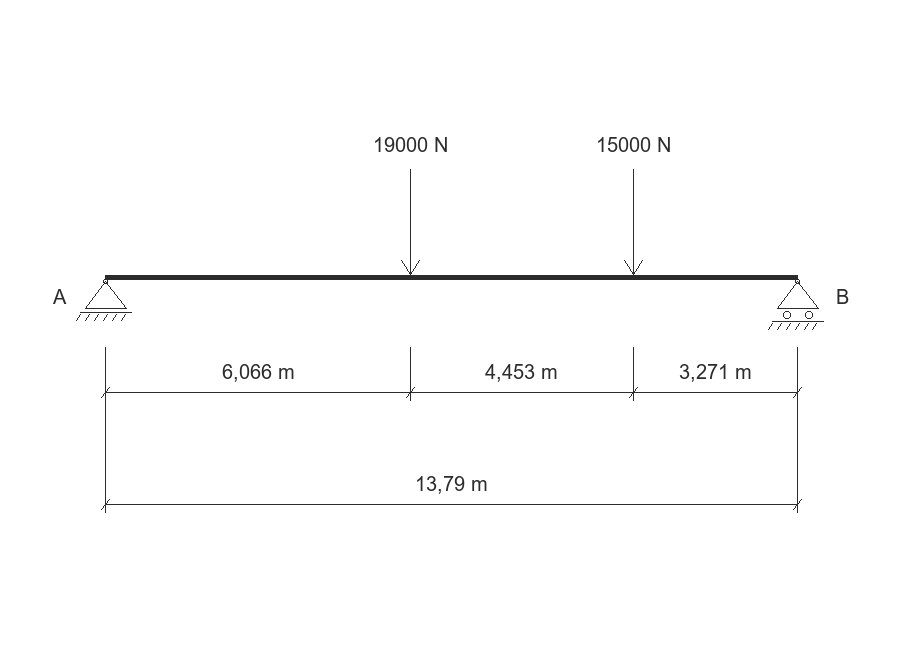pin_support: (76, 279, 132, 321)
point_load: (401, 169, 420, 275), (624, 169, 643, 275)
roller_support: (768, 279, 824, 330)
